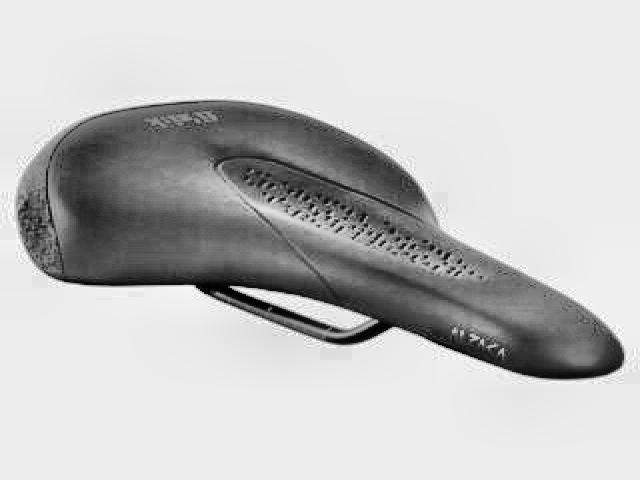saddle: (16, 98, 630, 386)
